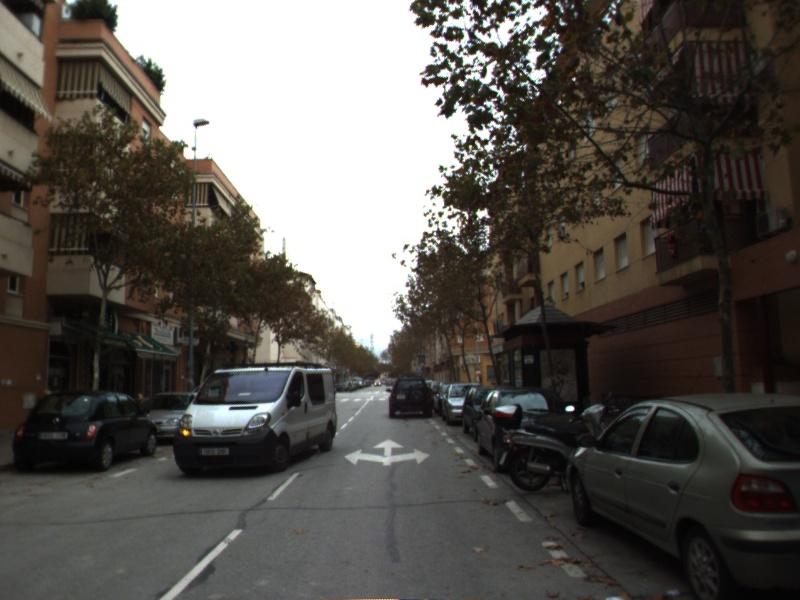STRAIGHT_LEFT_RIGHT: (342, 437, 433, 468)
